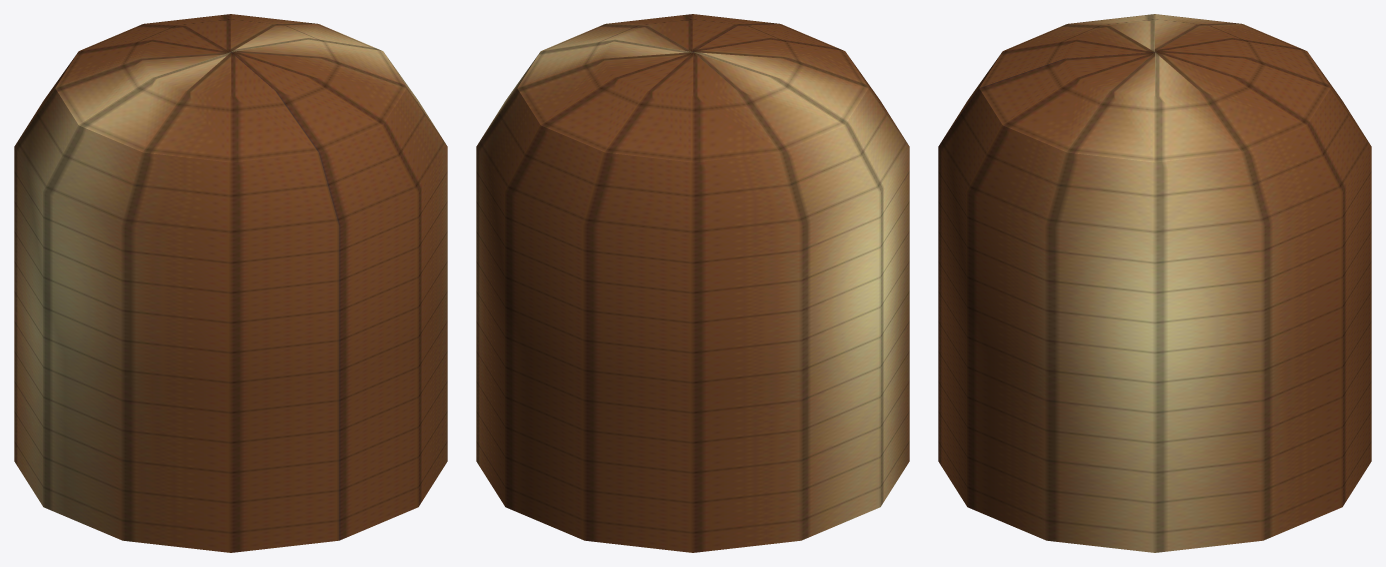
The model's file is SignalBeaconLamp.fbx.
3 views of the same model, side by side, from view 1: azimuth 30°, elevation 25°; view 2: azimuth 150°, elevation 25°; view 3: azimuth 270°, elevation 25° (orthographic).
Visible parts, largest first — view 1: SignalBeaconLamp; view 2: SignalBeaconLamp; view 3: SignalBeaconLamp.
Boxes of the visible parts, <box> form: SignalBeaconLamp: <box>14,14,447,552</box>; SignalBeaconLamp: <box>476,14,909,552</box>; SignalBeaconLamp: <box>938,14,1371,552</box>.
Size of the model in its own units: 0.424 by 0.442 by 0.424.
